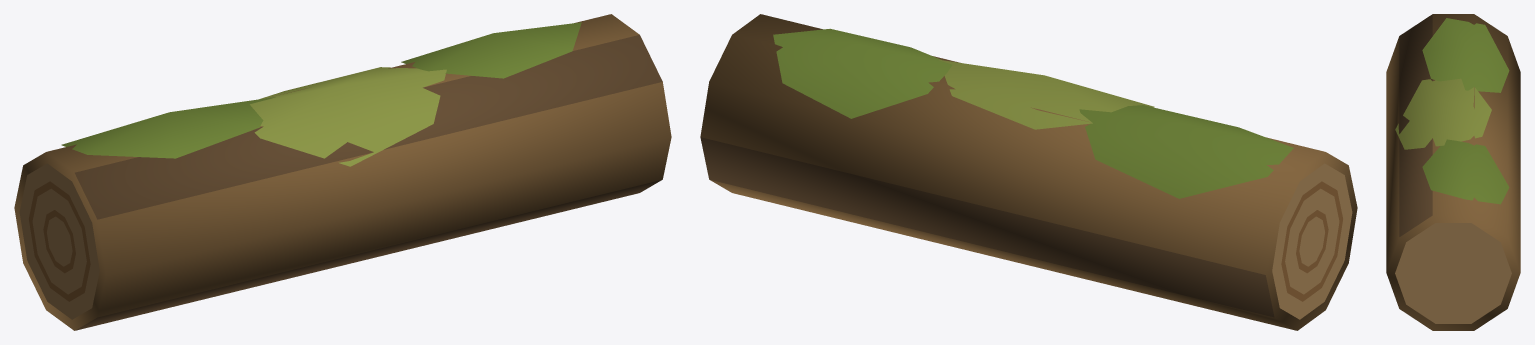
Rendered from wild_log_moss.glb.
3 renders of one model, left to right at view 1: azimuth 30°, elevation 25°; view 2: azimuth 150°, elevation 25°; view 3: azimuth 270°, elevation 25°, orthographic. The views are drawn at different scales.
Visible parts, largest first — view 1: wild_log_moss; view 2: wild_log_moss; view 3: wild_log_moss.
Boxes of the visible parts, x1,y1,x2,y2 form: wild_log_moss: (14,14,671,330); wild_log_moss: (700,14,1357,330); wild_log_moss: (1386,14,1520,330).
Size of the model in its own units: 0.962 by 0.2814 by 0.27.
